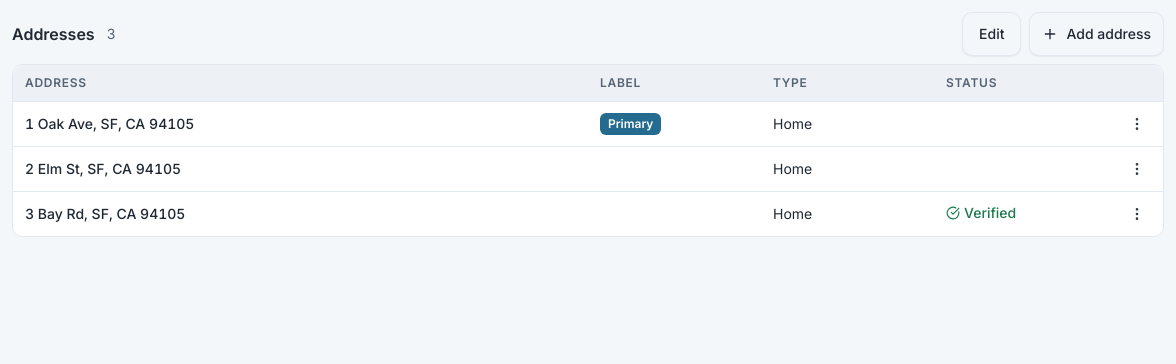
Test case: AddressesSection: Make primary (Story 4.4) › a failure toasts with Retry; Retry re-reads the rows and sends again
Step 1. Press Enter in the button named "More actions for 2 Elm St, SF, CA 94105", box left=1115, top=146, right=1159, bottom=190
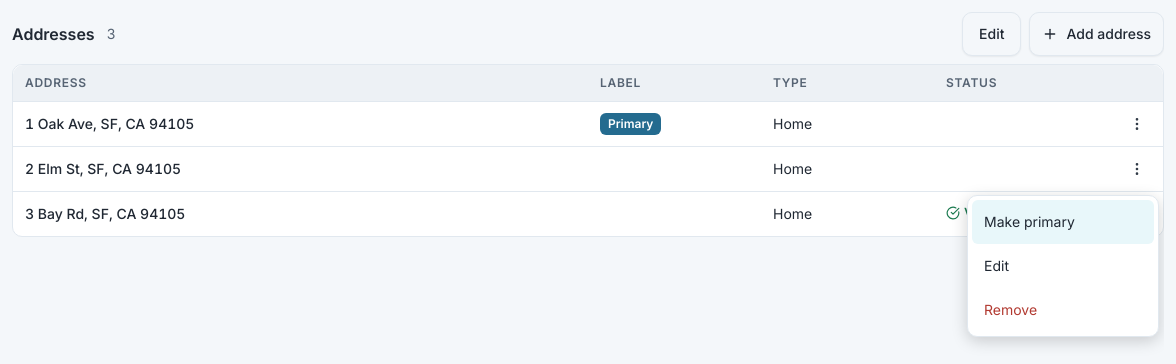
Step 2. Click the menu item "Make primary" → [1063, 222], box left=972, top=200, right=1154, bottom=244
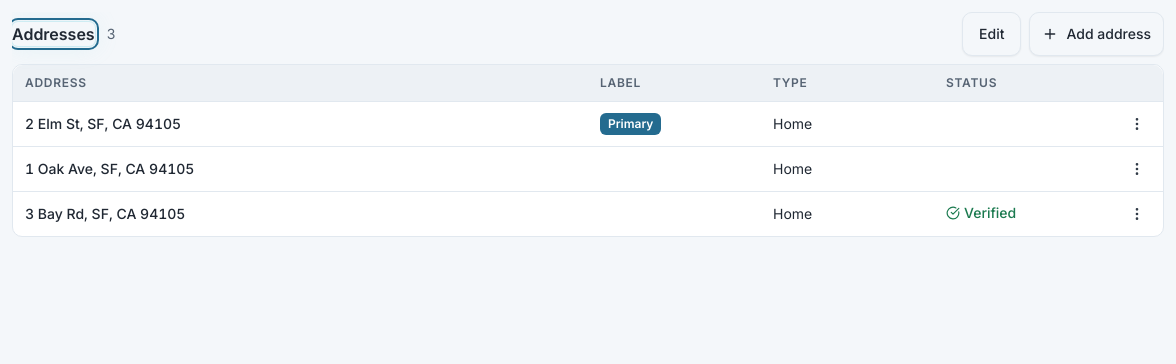
Expected: the text "2 Elm St, SF, CA 94105" is shown, left=25, top=114, right=181, bottom=134
Expected: the menu is gone
